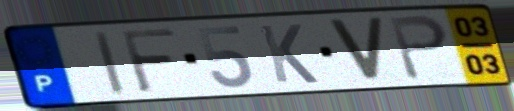5: (194, 24, 255, 90)
F: (117, 27, 179, 96)
I: (91, 29, 129, 97)
K: (256, 22, 322, 85)
P: (385, 12, 451, 83)
V: (323, 17, 387, 85)
